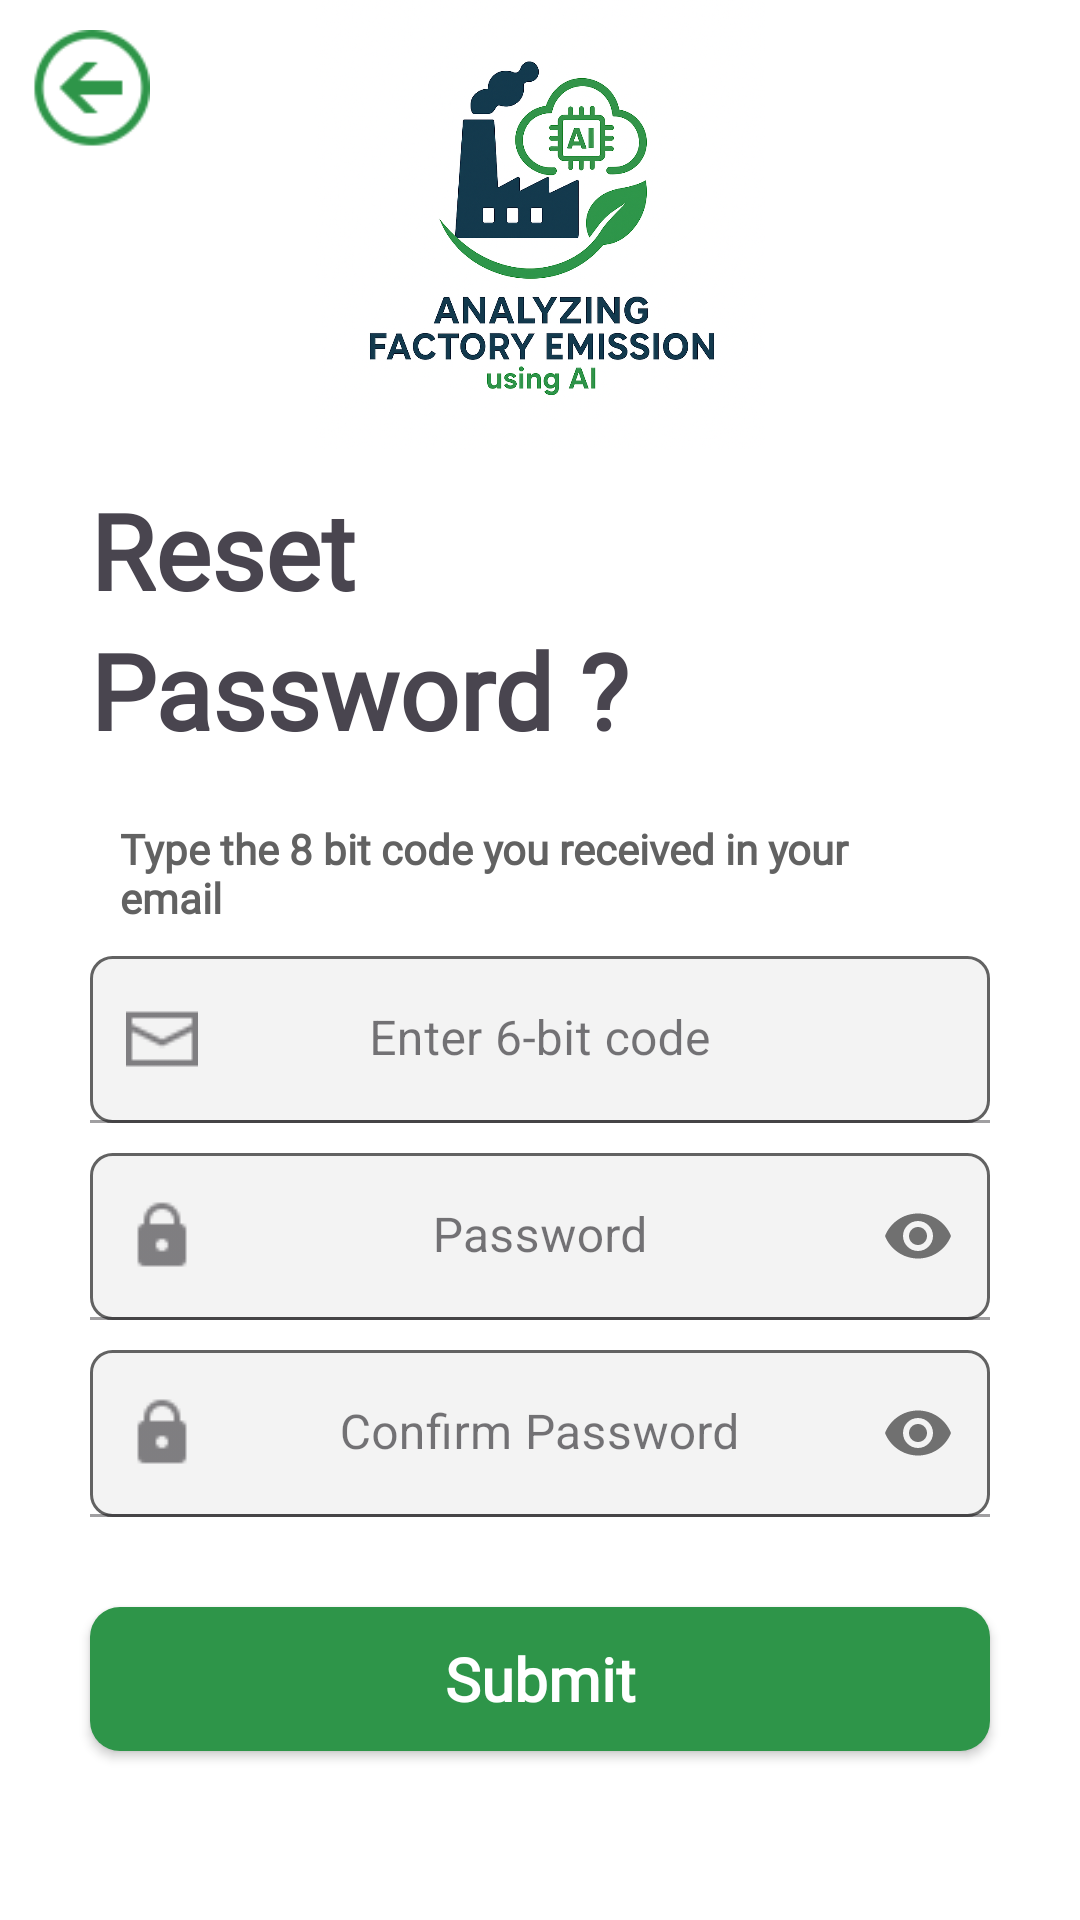

Where to tap for icons on this 1080px x 1920px app screen, as (x,y):
back: (92,88)
